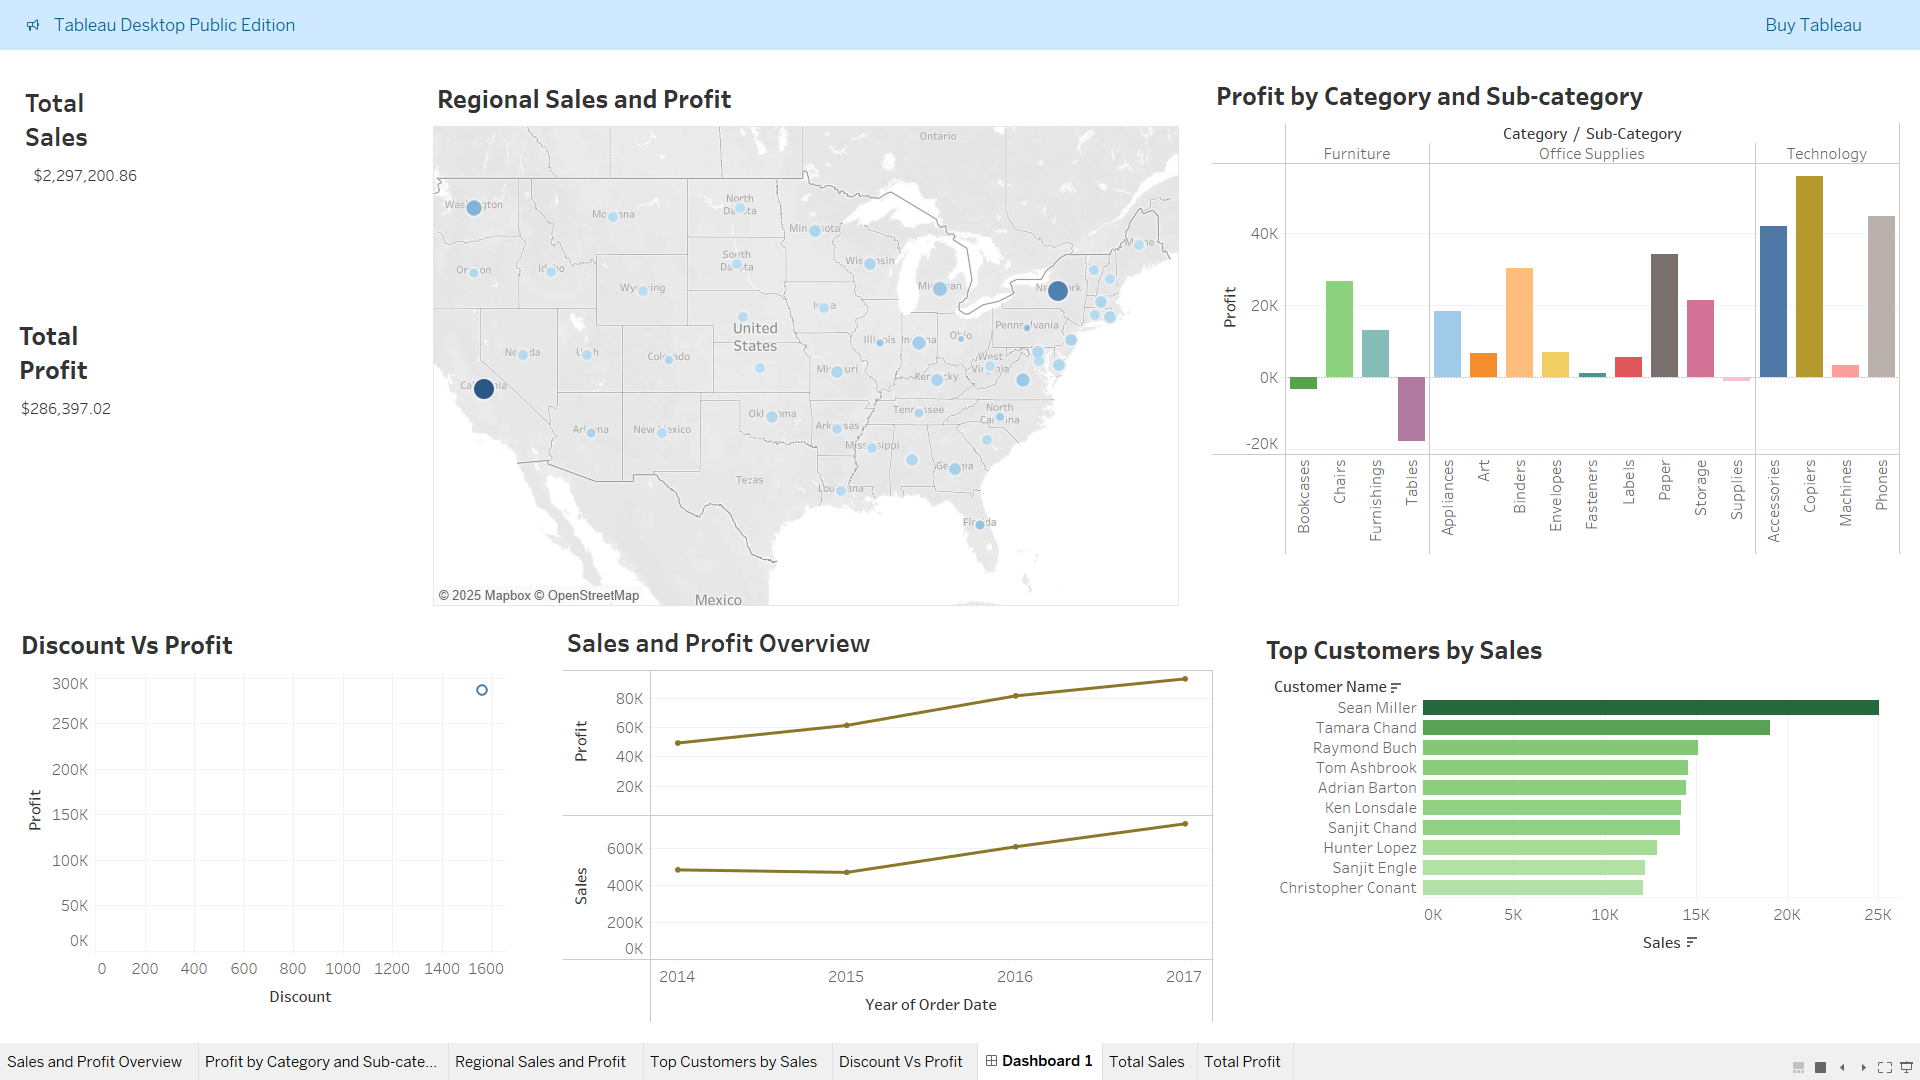

This screenshot's page, from the dashboard's own definition file:
{"tool":"tableau","page":{"name":"Dashboard 1","canvas":[1000,1000],"units":"permille","ordinal":0},"visuals":[{"type":"worksheet","title":"Profit by Category and Sub-category","mark":"Automatic","rows":["Profit"],"cols":["Category","Sub-Category"],"box":[631.3,24.7,358.5,484.6]},{"type":"worksheet","title":"Regional Sales and Profit","mark":"Automatic","box":[225.7,27.1,388.7,532.7]},{"type":"worksheet","title":"Total Sales","mark":"Automatic","box":[10.9,30.8,192.5,173.9]},{"type":"worksheet","title":"Total Profit","mark":"Automatic","box":[7.9,266.3,185.9,175.1]},{"type":"worksheet","title":"Sales and Profit Overview","mark":"Automatic","rows":["Profit","Sales"],"cols":["Order Date"],"box":[293.3,574.6,338.6,415.5]},{"type":"worksheet","title":"Discount Vs Profit","mark":"Automatic","rows":["Profit"],"cols":["Discount"],"box":[9.1,577.1,254.7,393.3]},{"type":"worksheet","title":"Top Customers by Sales","mark":"Automatic","rows":["Customer Name"],"cols":["Sales"],"box":[657.2,582,333.1,379.8]}]}

Visuals, with their boxes on the dashboard's canvas, which has no fixed pixel size, in thousandths of its width and height (x1, y1, x2, y2). These are canvas units, not pixel positions in the 1920x1080 screenshot, which may show the page scaled, cropped or inside an application window:
"Profit by Category and Sub-category" worksheet: 631, 25, 990, 509
"Regional Sales and Profit" worksheet: 226, 27, 614, 560
"Total Sales" worksheet: 11, 31, 203, 205
"Total Profit" worksheet: 8, 266, 194, 441
"Sales and Profit Overview" worksheet: 293, 575, 632, 990
"Discount Vs Profit" worksheet: 9, 577, 264, 970
"Top Customers by Sales" worksheet: 657, 582, 990, 962
